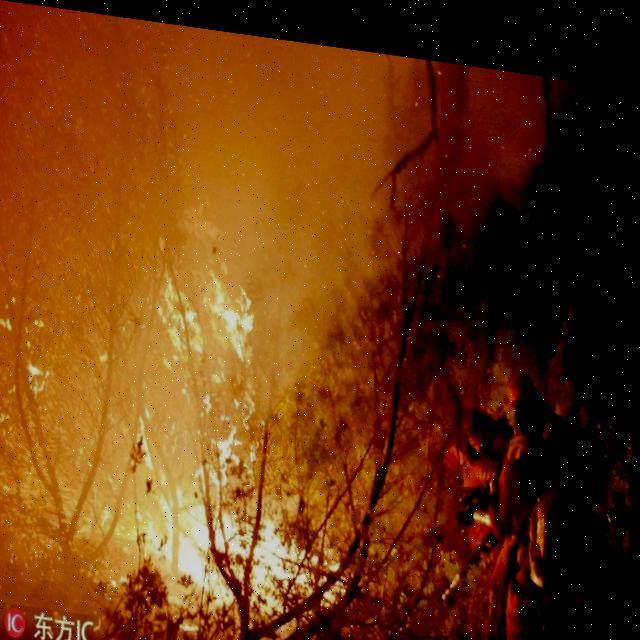Fire: (130, 247, 344, 619)
